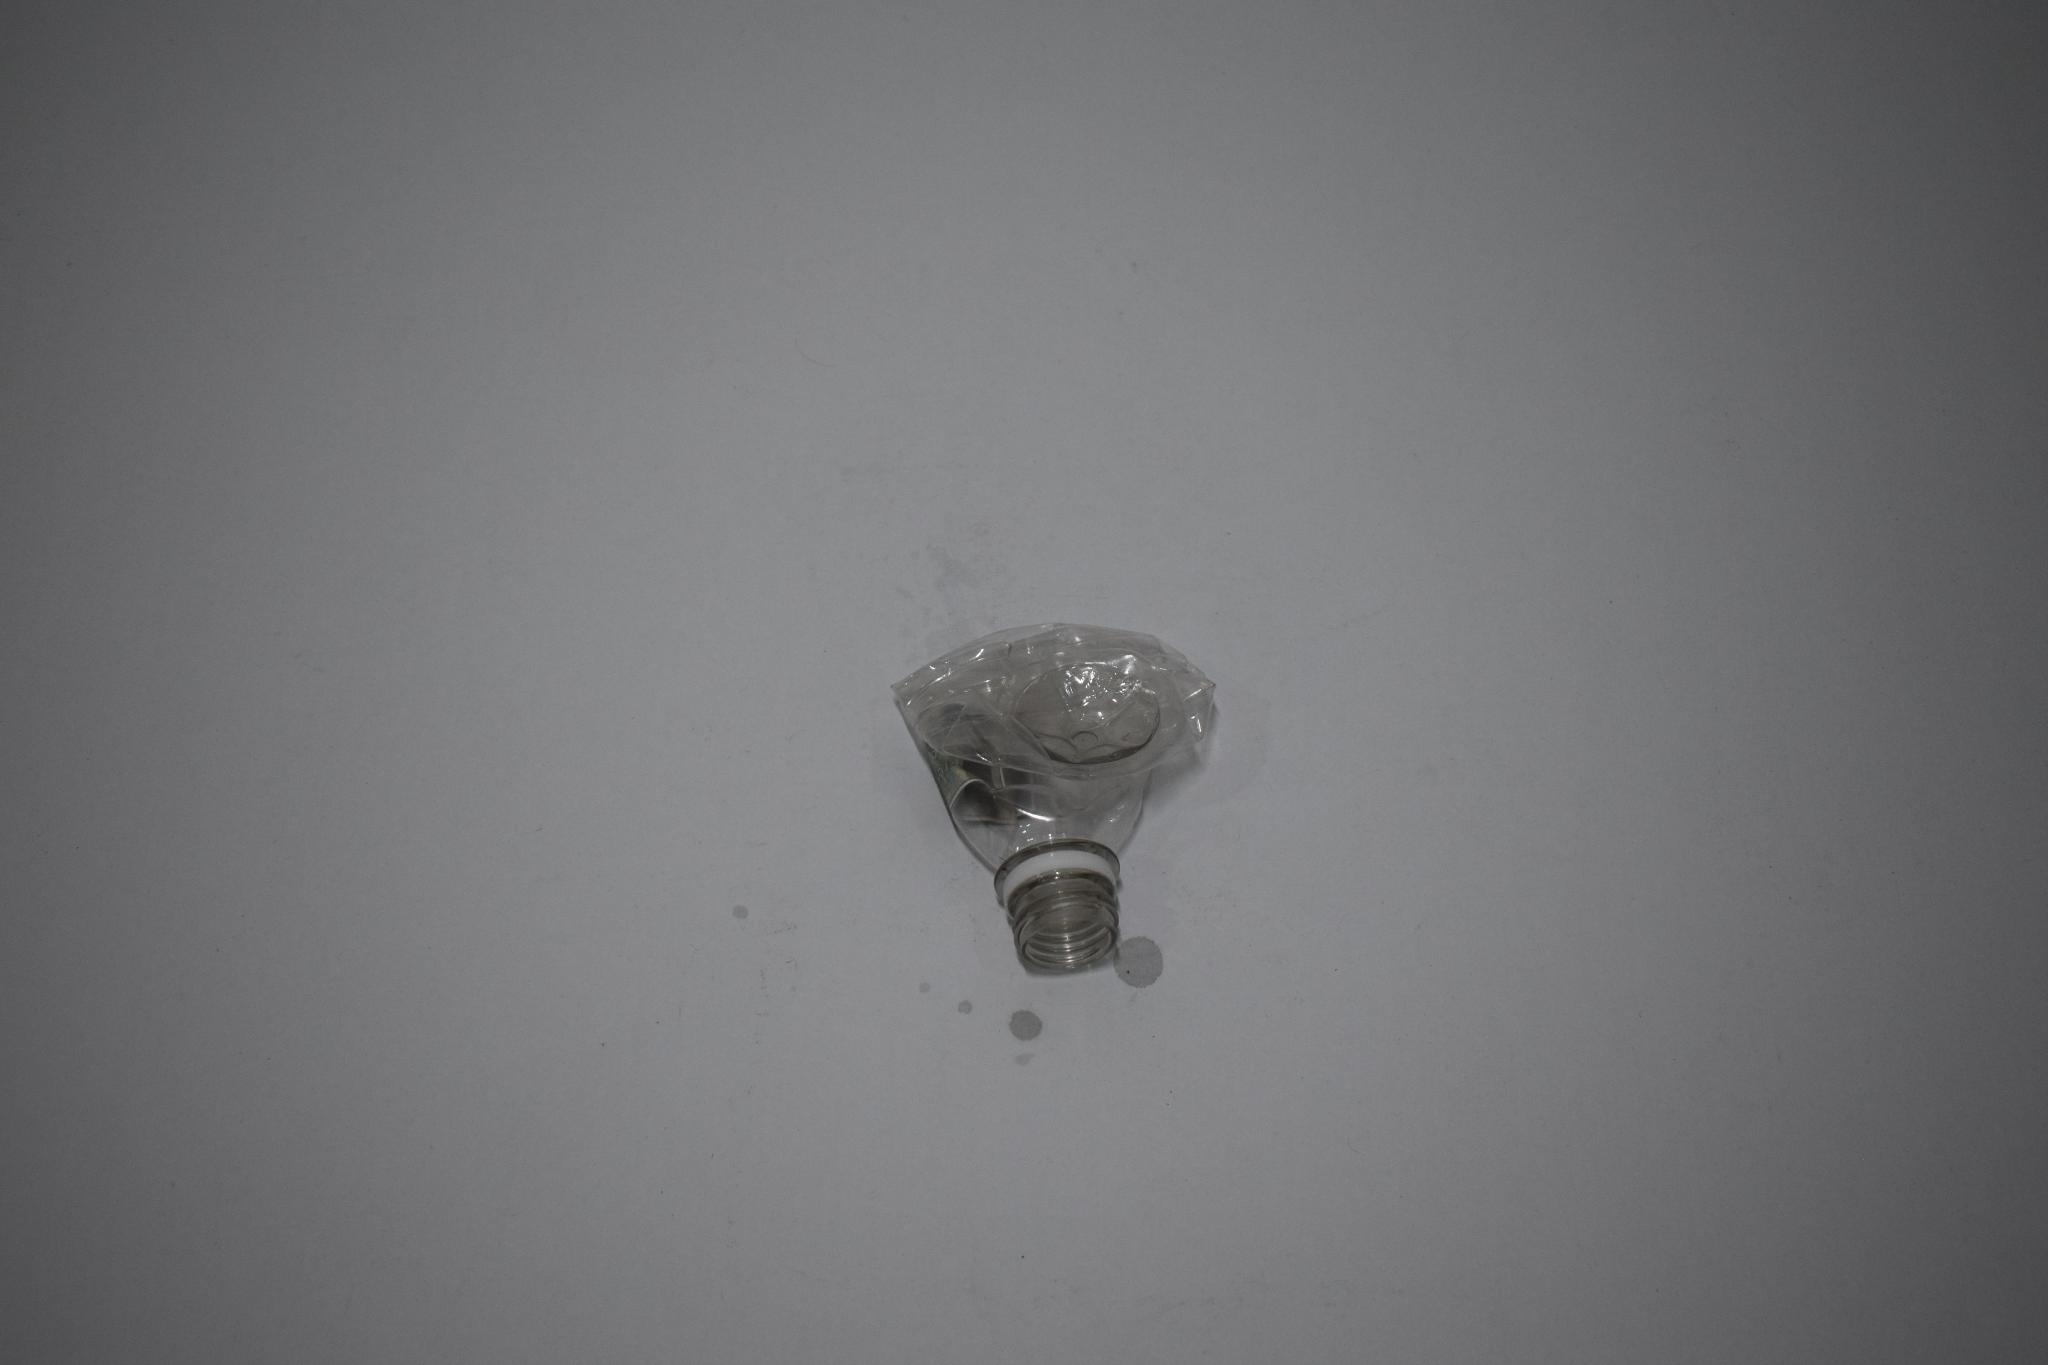bottle: (868, 606, 1240, 984)
